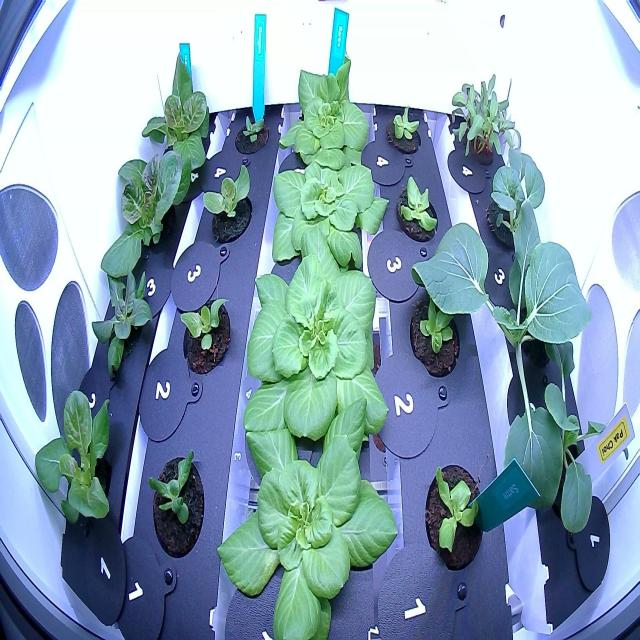young: (210, 393, 408, 639), (235, 234, 392, 453), (261, 144, 394, 285), (96, 132, 194, 292), (28, 379, 122, 538), (272, 44, 376, 182), (138, 43, 214, 188), (87, 251, 156, 388), (419, 447, 487, 580), (142, 436, 208, 568), (197, 155, 260, 254), (175, 287, 236, 386), (403, 280, 462, 380), (390, 168, 442, 249), (228, 103, 274, 162), (382, 99, 426, 160)
